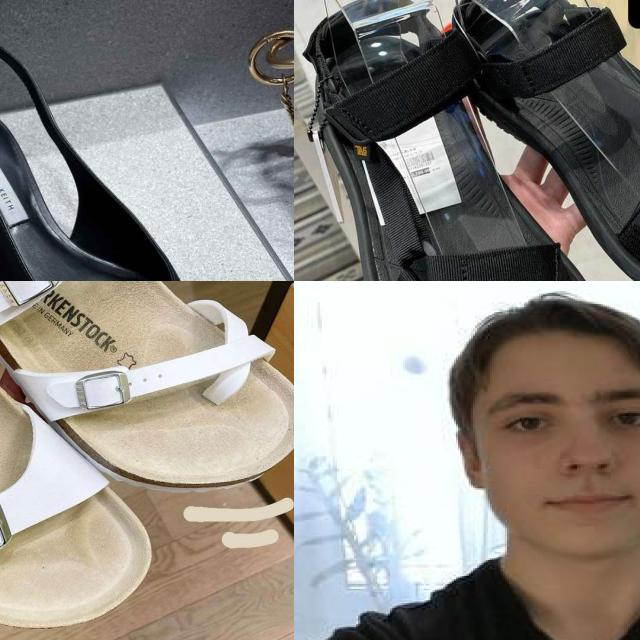No_Ear-Protection: (451, 422, 494, 494)
No_Glasses: (474, 380, 640, 443)
Sandals: (294, 0, 640, 281), (0, 11, 278, 281), (0, 281, 294, 514), (0, 281, 178, 637), (0, 95, 107, 281)
face_nomask: (475, 382, 640, 556)
head_nohelmet: (447, 305, 640, 380)
person: (294, 281, 640, 640)
